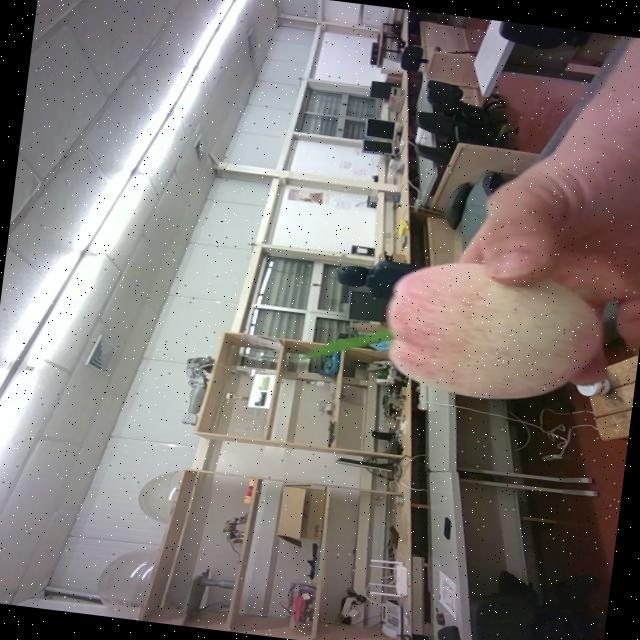peach: (387, 261, 602, 398)
